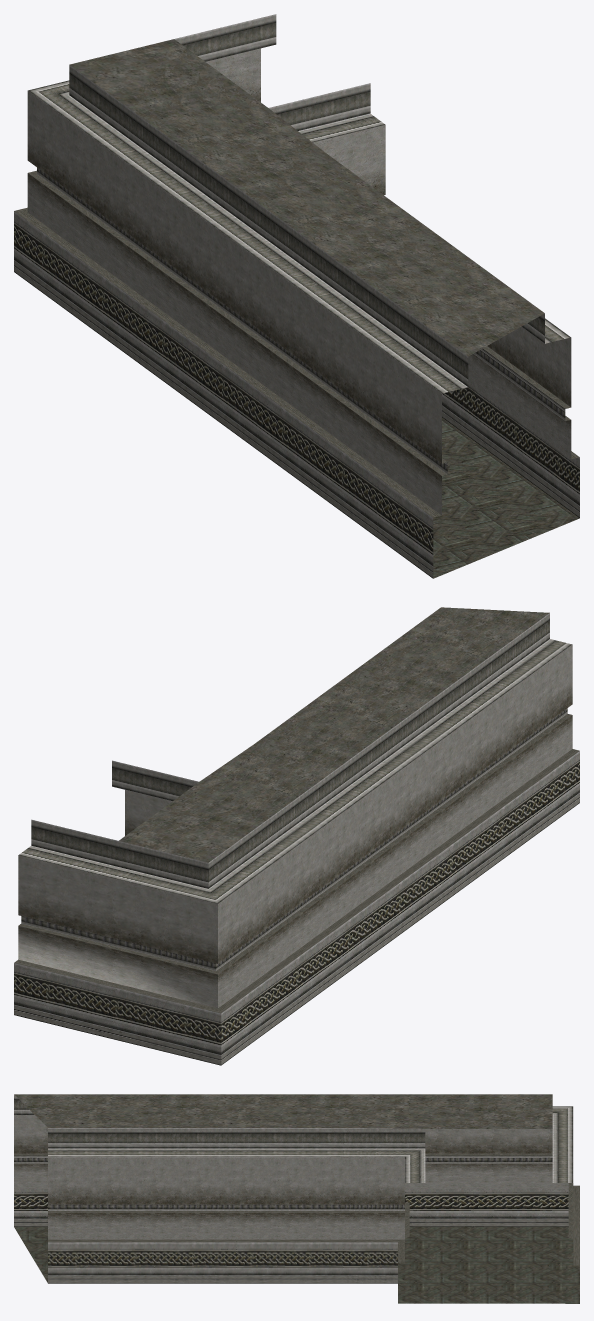
The model's file is DWARF_PALACE_FORGE_HALLWAY02A.fbx.
3 views of the same model, one above another, from view 1: azimuth 30°, elevation 25°; view 2: azimuth 150°, elevation 25°; view 3: azimuth 270°, elevation 25° (orthographic). The views are drawn at different scales.
Visible parts, largest first — view 1: DWARF_PALACE_FORGE_HALLWAY02A; view 2: DWARF_PALACE_FORGE_HALLWAY02A; view 3: DWARF_PALACE_FORGE_HALLWAY02A.
Part boxes in pixels (x1,y1,x2,y2): DWARF_PALACE_FORGE_HALLWAY02A: [14, 14, 579, 578]; DWARF_PALACE_FORGE_HALLWAY02A: [14, 607, 579, 1065]; DWARF_PALACE_FORGE_HALLWAY02A: [14, 1094, 579, 1303].
Bounding box in the file's own units: 83004 × 70000 × 249000.
Materials: 7 (7 with a texture image).
